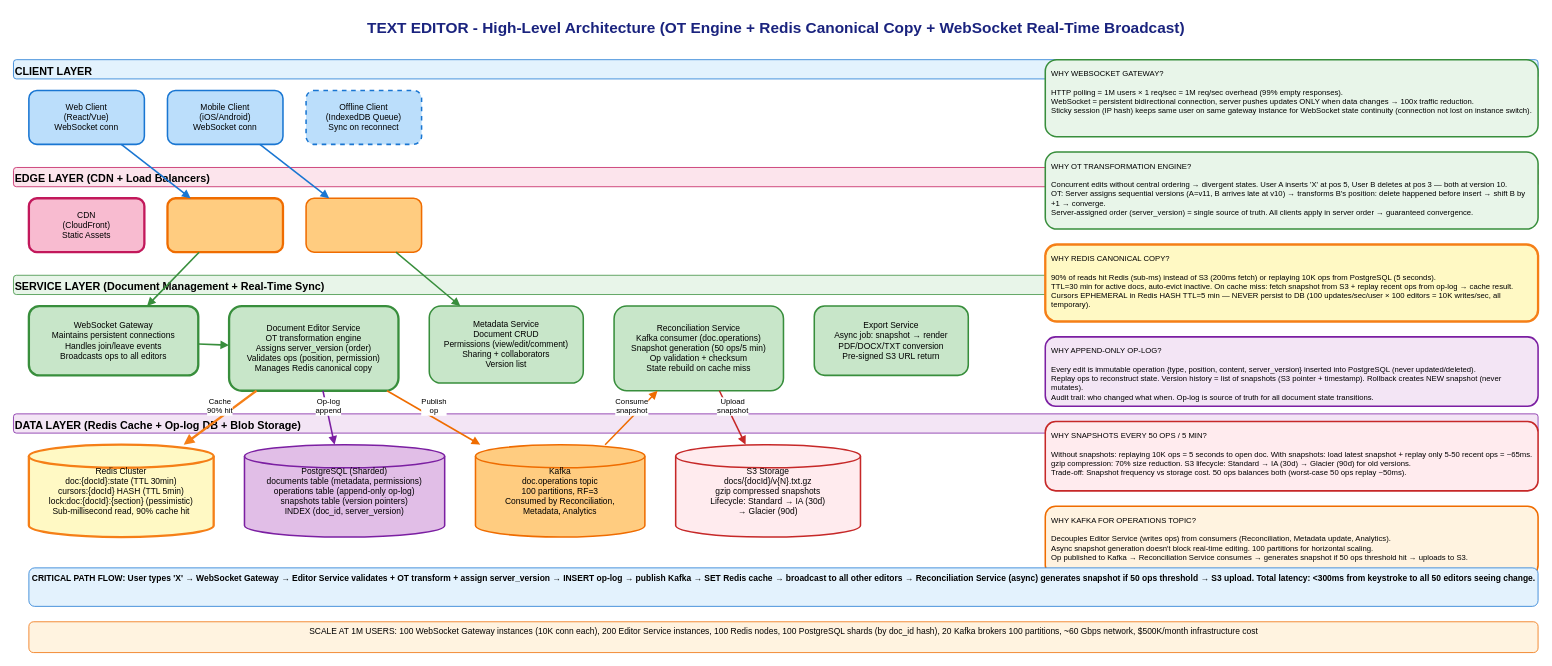
This 1552x666 diagram has some shape labels left out. Each missing label, with the centre of its shape:
"API Gateway LB REST + Auth Rate Limiting" belongs at (x=363, y=225).
"WebSocket LB Sticky Session 10K conn/instance" belongs at (x=225, y=225).
